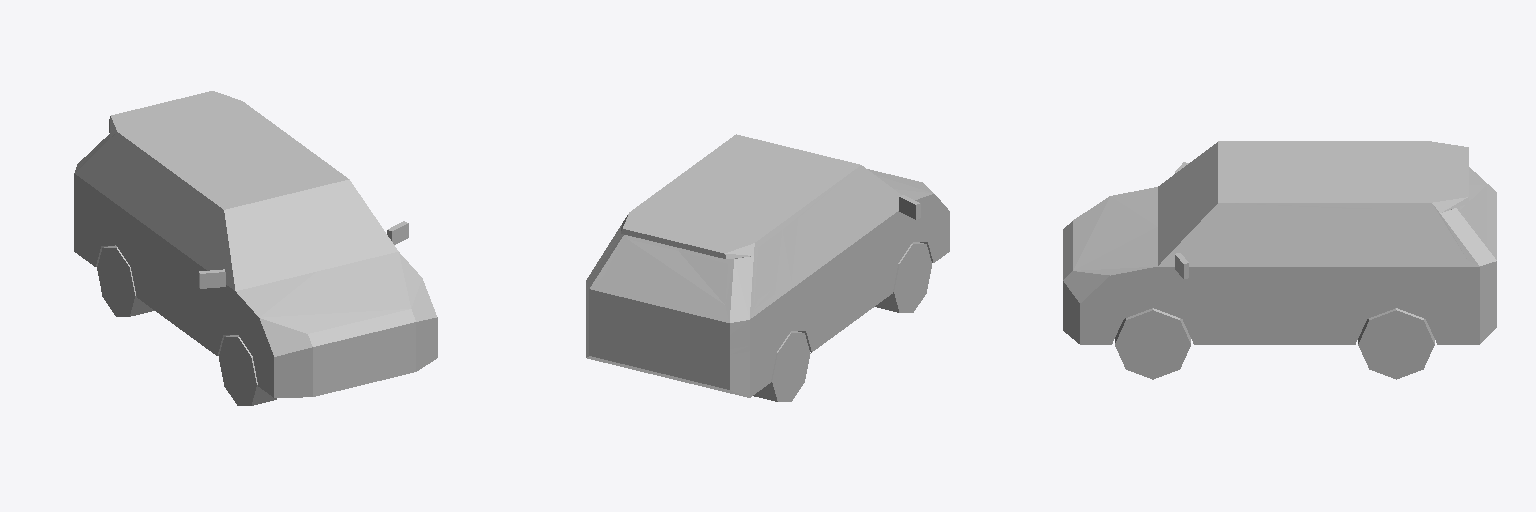
The model's file is suv_green.obj.
3 renders of one model, left to right at view 1: azimuth 30°, elevation 25°; view 2: azimuth 150°, elevation 25°; view 3: azimuth 270°, elevation 25°, orthographic.
Parts seen in each view (by area): view 1: SUV_01_Green, Wheel_FR, Wheel_RR; view 2: SUV_01_Green, Wheel_FR, Wheel_RR; view 3: SUV_01_Green, Wheel_FL, Wheel_RL.
Part boxes in pixels (x1,y1,x2,y2): SUV_01_Green: (74, 91, 437, 397); Wheel_FR: (219, 335, 276, 405); Wheel_RR: (97, 245, 154, 316); SUV_01_Green: (586, 134, 949, 397); Wheel_FR: (875, 242, 931, 312); Wheel_RR: (753, 331, 810, 401); SUV_01_Green: (1063, 141, 1496, 344); Wheel_FL: (1115, 308, 1190, 379); Wheel_RL: (1358, 308, 1434, 379).
Bounding box in the file's own units: 1.06 × 0.8172 × 1.92.